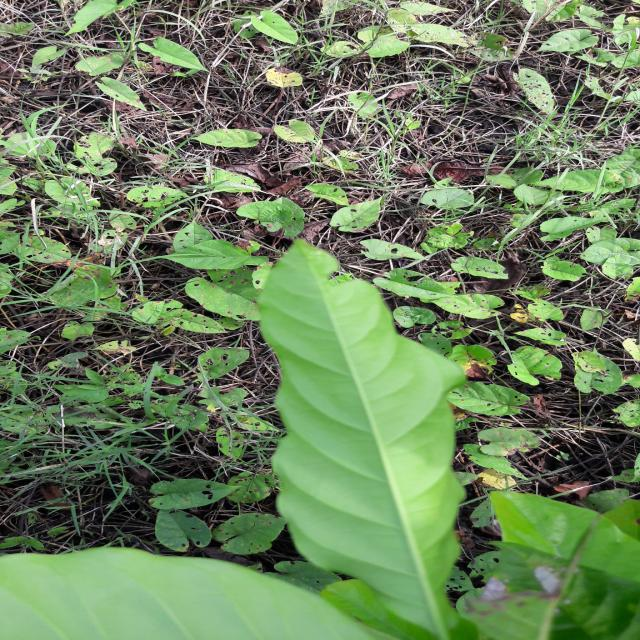Sanas: (251, 239, 473, 640)
